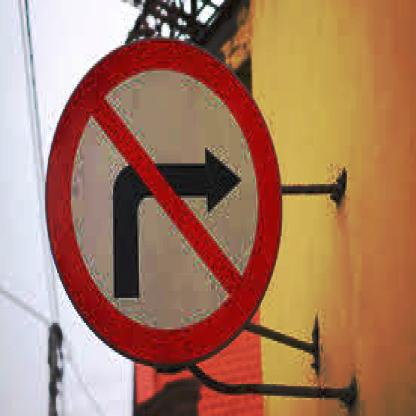No right turn: (41, 37, 282, 374)
